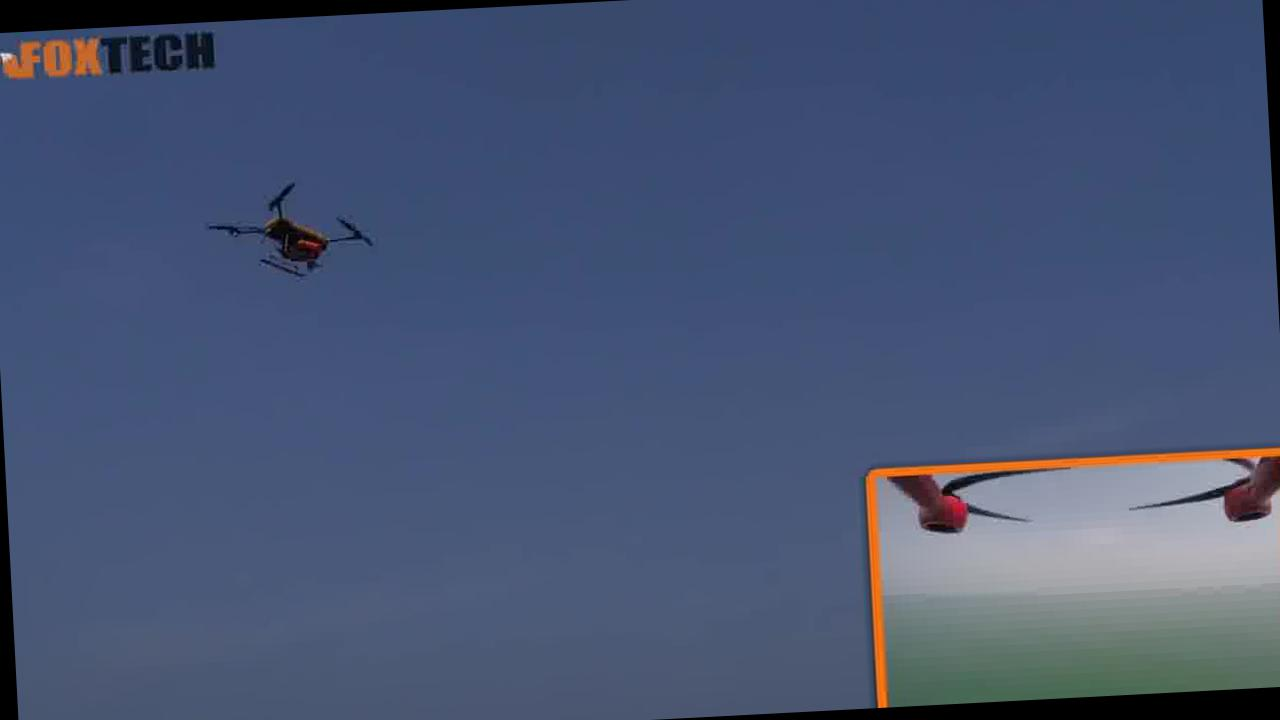drone: (206, 174, 377, 284)
